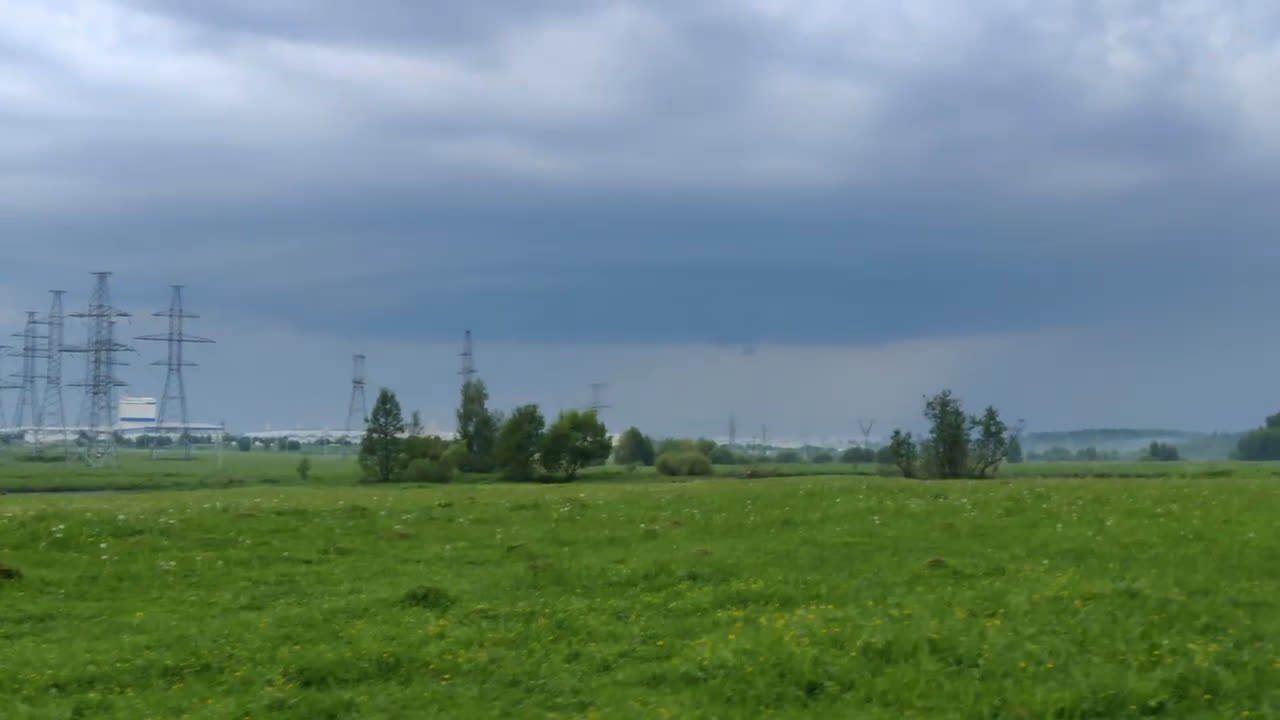mesocyclone: (244, 251, 1103, 338)
striations: (296, 276, 658, 335)
wall cloud: (687, 338, 788, 360)
